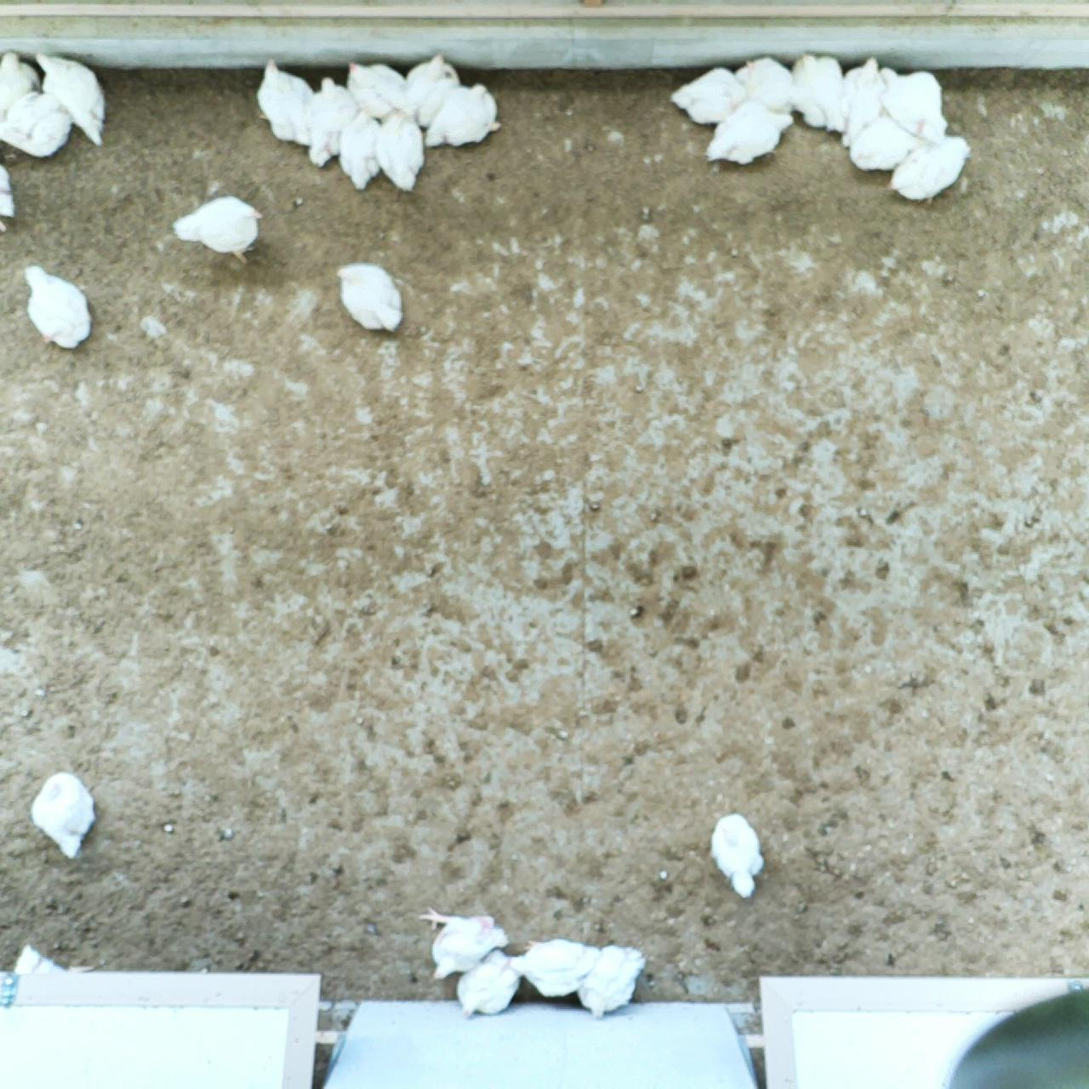chicken: (35, 49, 109, 148), (419, 906, 508, 981), (884, 131, 973, 206), (172, 193, 262, 266), (21, 262, 93, 353), (503, 935, 603, 999), (30, 772, 101, 861), (254, 54, 320, 148), (877, 63, 949, 147), (304, 72, 363, 170), (704, 102, 795, 165), (576, 945, 647, 1022), (423, 82, 504, 149), (848, 109, 932, 173), (838, 56, 895, 149), (709, 812, 769, 900), (333, 260, 405, 333), (0, 91, 75, 159), (788, 50, 849, 133), (454, 950, 522, 1021), (404, 52, 465, 131), (373, 105, 427, 192), (672, 67, 751, 124), (338, 104, 386, 192), (342, 59, 409, 122), (0, 43, 44, 137), (734, 59, 800, 116), (0, 151, 18, 240)
